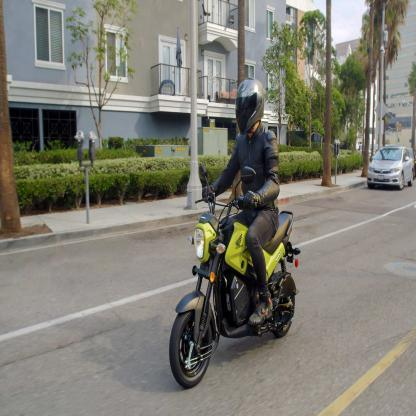helmet: (234, 77, 265, 137)
